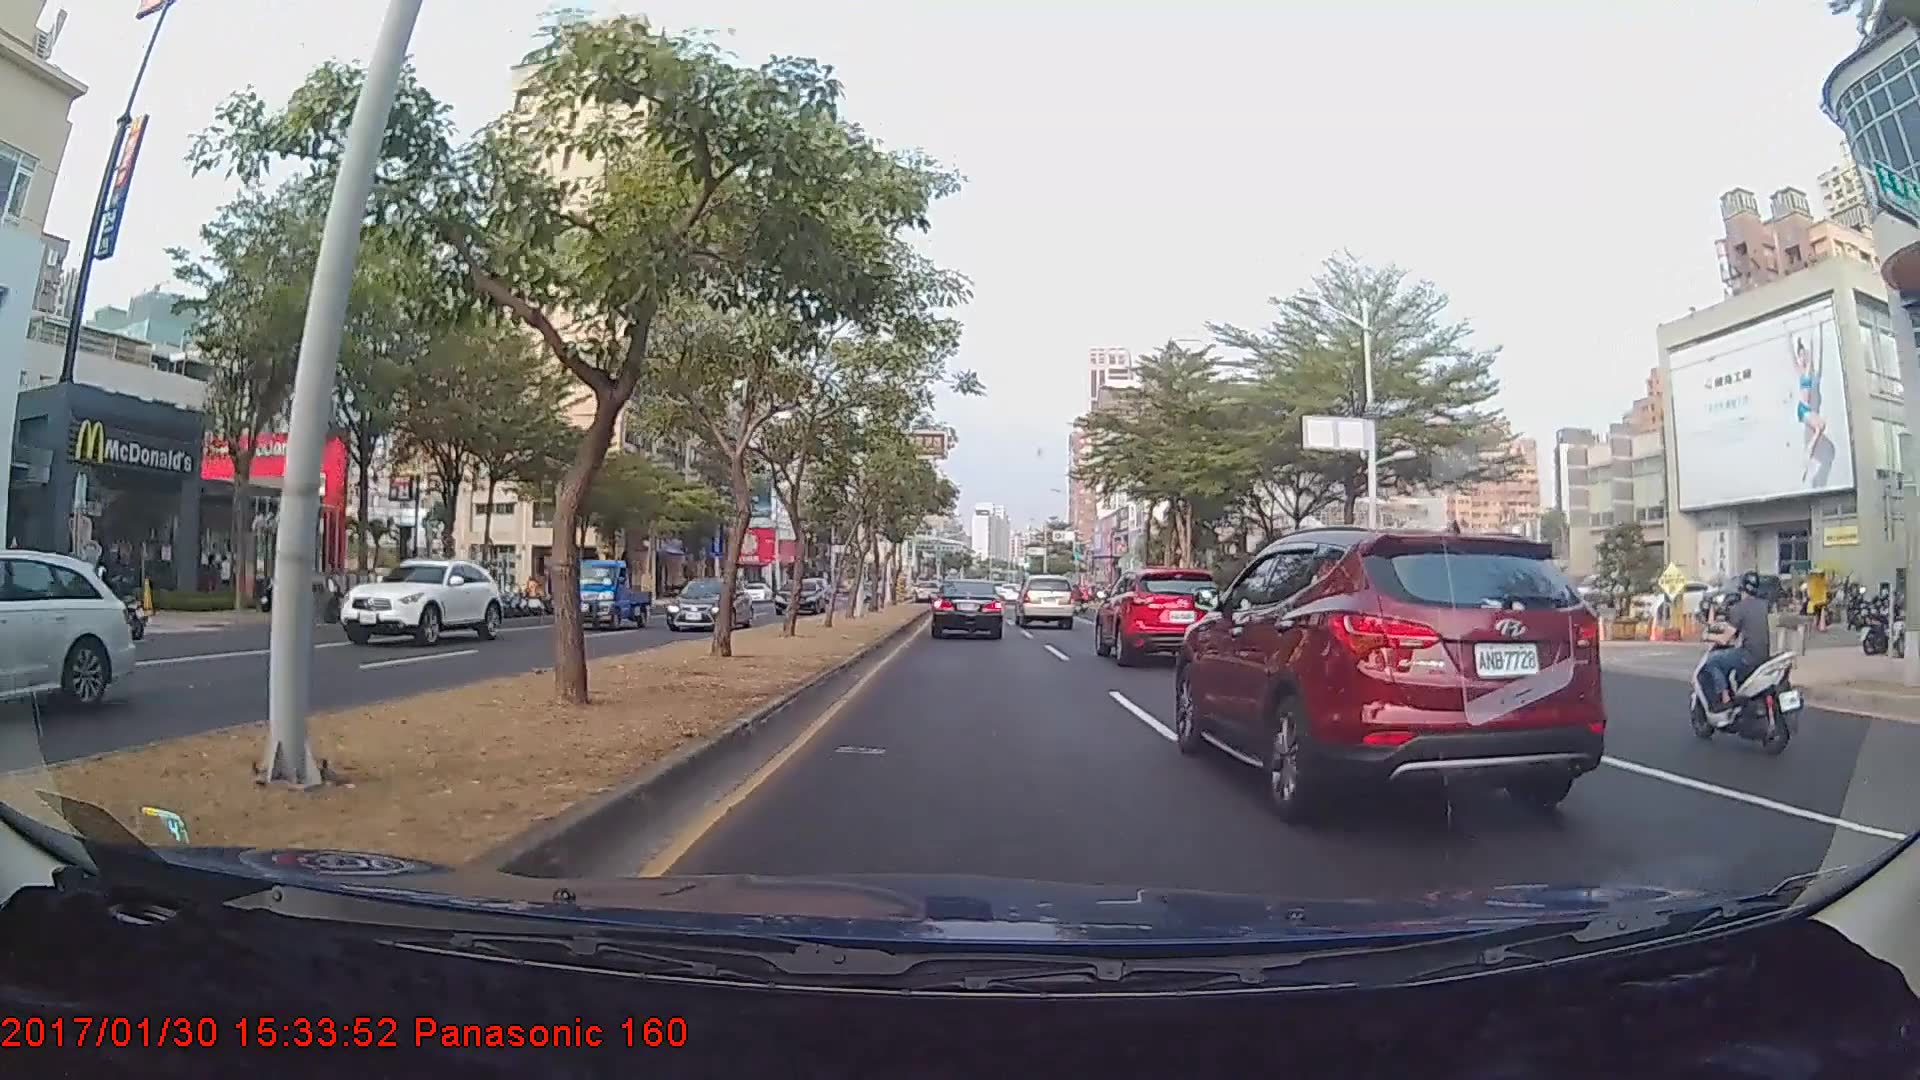rider: (1687, 566, 1809, 759)
vehicle: (1185, 524, 1596, 806), (0, 548, 138, 727), (335, 555, 504, 644), (1092, 564, 1226, 666), (560, 558, 656, 630), (665, 575, 751, 632), (931, 577, 1003, 639), (1015, 574, 1077, 628), (775, 575, 826, 615)
